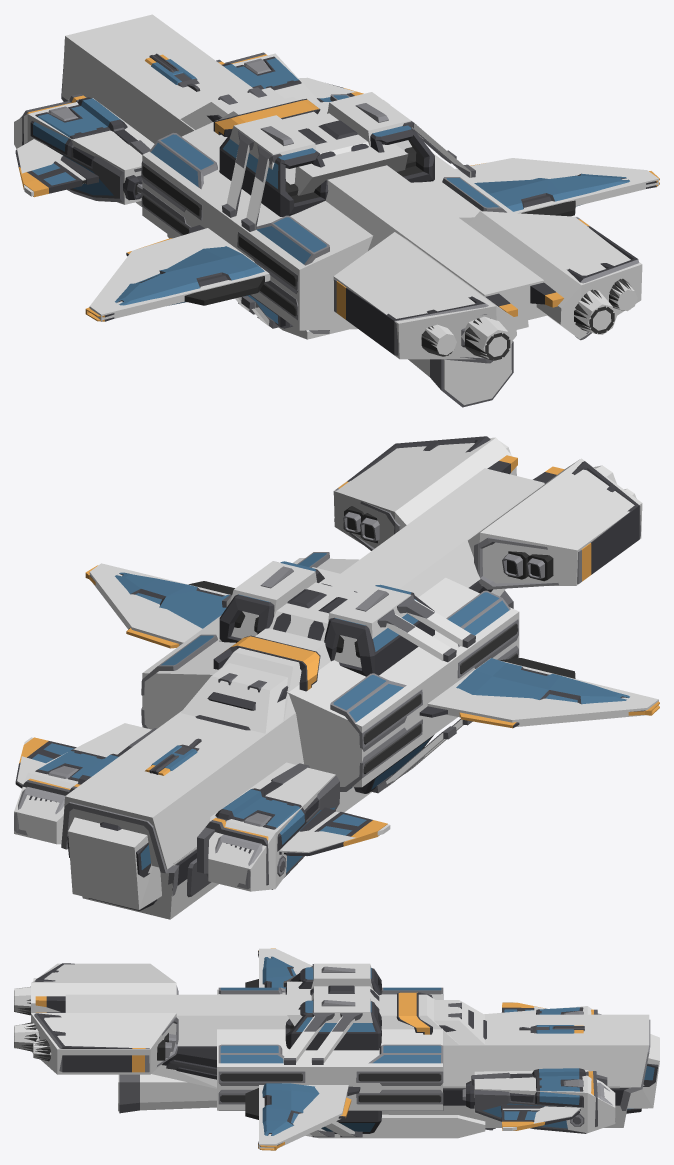
Rendered from SM_Ship_Cruiser_03.fbx.
3 views of the same model, one above another, from view 1: azimuth 30°, elevation 25°; view 2: azimuth 150°, elevation 25°; view 3: azimuth 270°, elevation 25° (orthographic). The views are drawn at different scales.
Visible parts, largest first — view 1: SM_Ship_Cruiser_03_ConvexHulls, SM_Ship_Cruiser_03_LOD0; view 2: SM_Ship_Cruiser_03_ConvexHulls, SM_Ship_Cruiser_03_LOD0; view 3: SM_Ship_Cruiser_03_ConvexHulls, SM_Ship_Cruiser_03_LOD0.
Boxes of the visible parts, box(x1,y1,x2,y2) form: SM_Ship_Cruiser_03_ConvexHulls: box(14, 14, 658, 405); SM_Ship_Cruiser_03_LOD0: box(15, 52, 659, 407); SM_Ship_Cruiser_03_ConvexHulls: box(14, 437, 658, 919); SM_Ship_Cruiser_03_LOD0: box(14, 436, 659, 910); SM_Ship_Cruiser_03_ConvexHulls: box(14, 948, 659, 1149); SM_Ship_Cruiser_03_LOD0: box(14, 948, 658, 1150).
Bounding box in the file's own units: 5057 × 3677 × 1234.
1 material, 1 textured.
